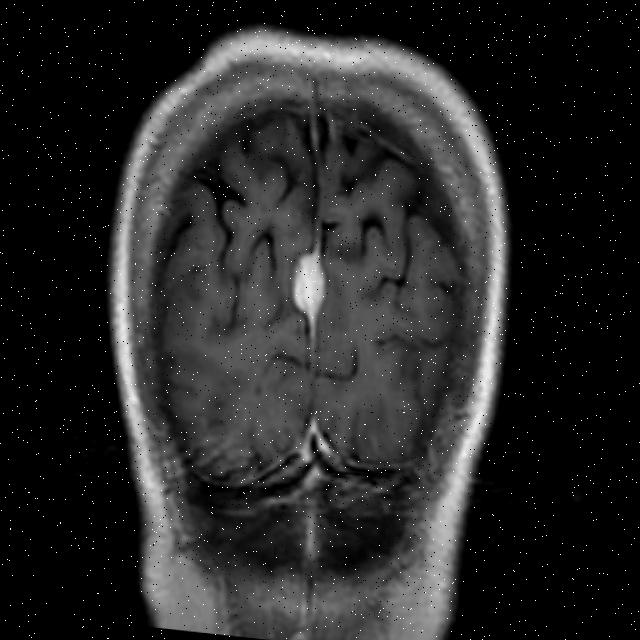Meningioma: (284, 215, 338, 349)
